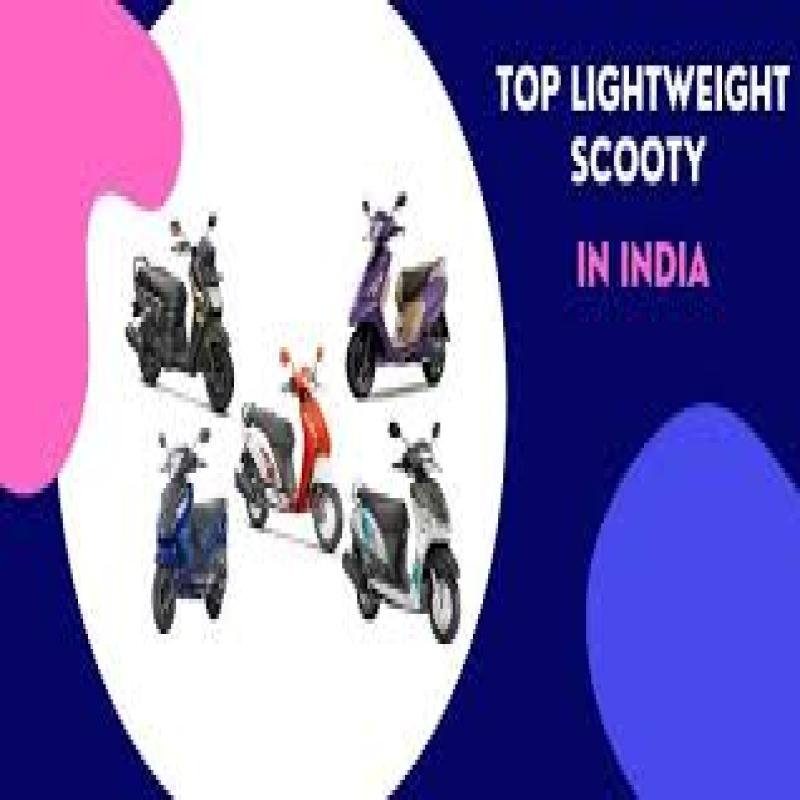bike: (333, 419, 478, 652), (336, 175, 468, 408), (239, 323, 344, 613), (115, 198, 250, 404), (136, 420, 235, 646)
